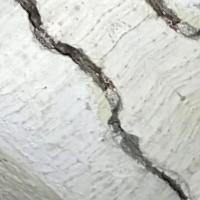crack: (14, 2, 199, 199)
